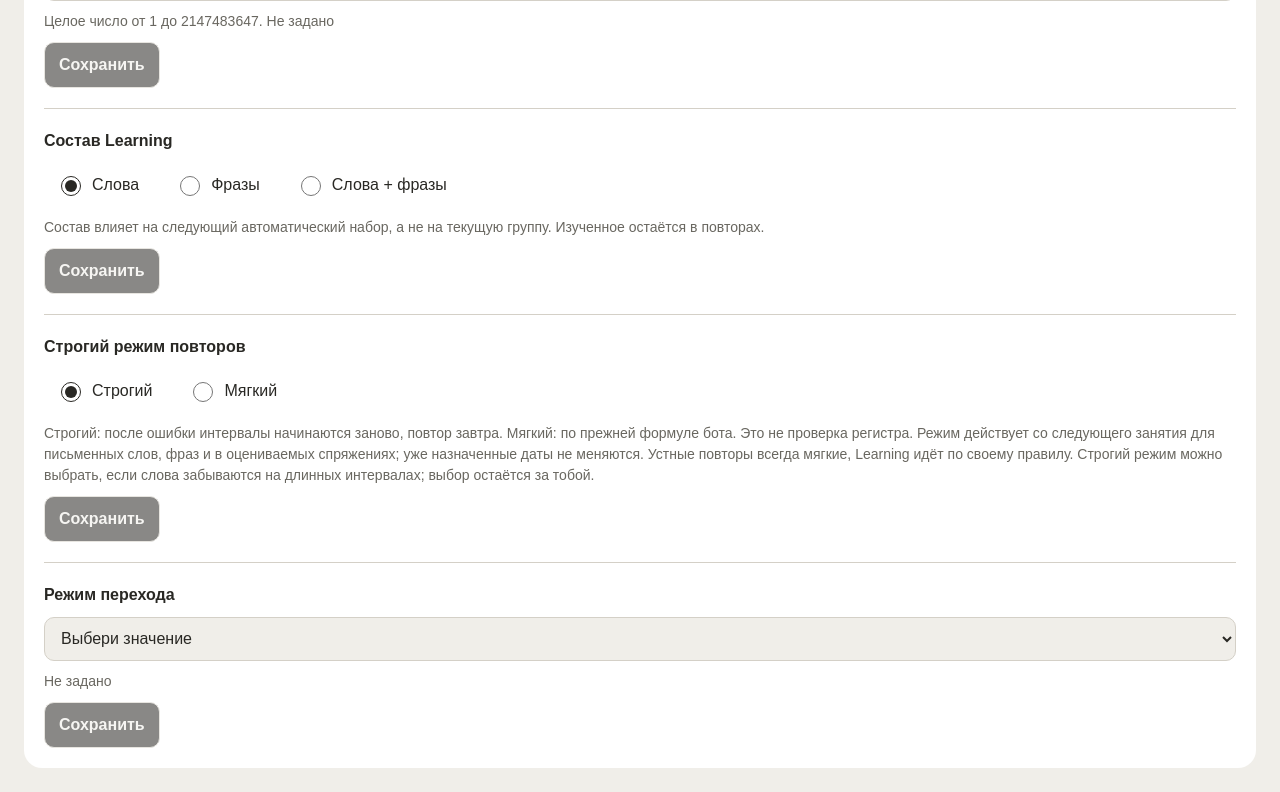
Test: Settings host saves review mode and learning content (M-SET) › Строгий режим повторов: Мягкий goes through setting.save and shows success only after the committed reply
(page scrolled)
Click the radio button labelled "Мягкий": (203, 392) x1=193 y1=382 x2=213 y2=402
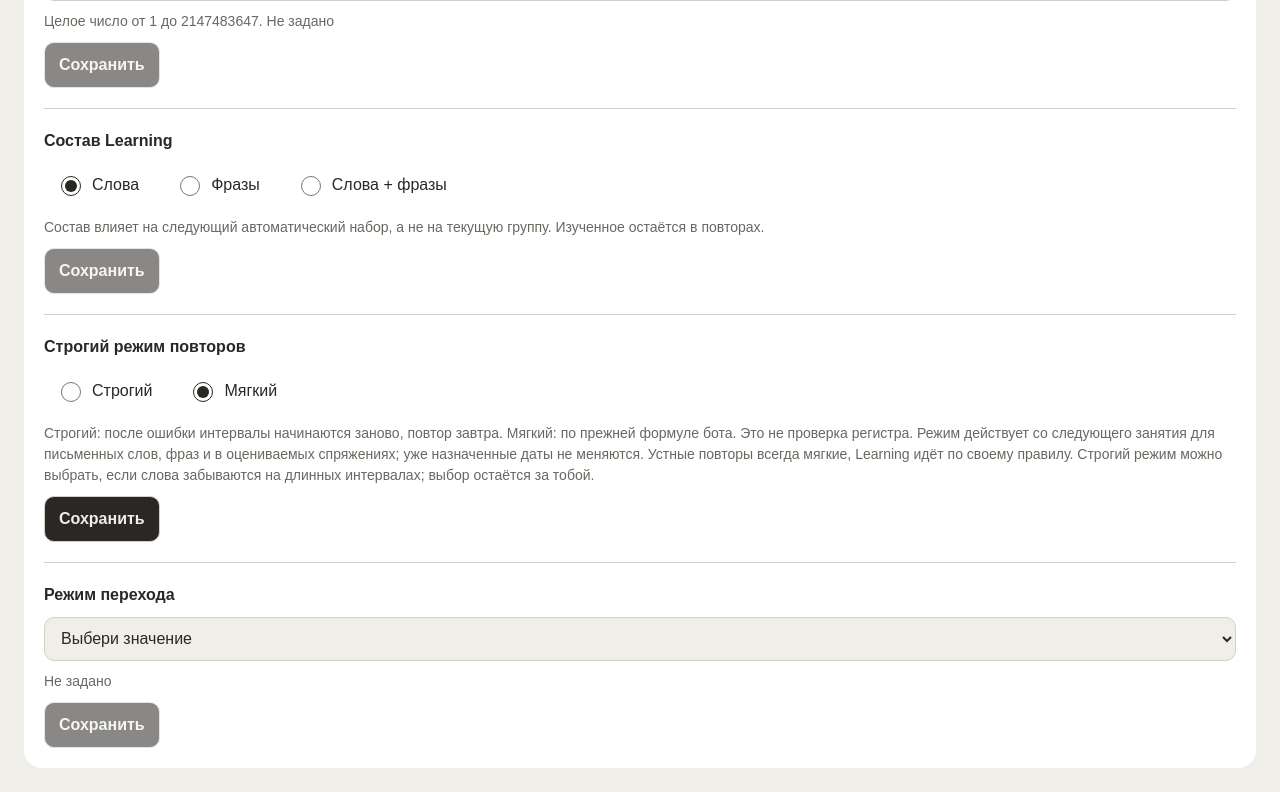
Click the button "Сохранить" below "Строгий режим повторов": (102, 519) x1=44 y1=496 x2=160 y2=542
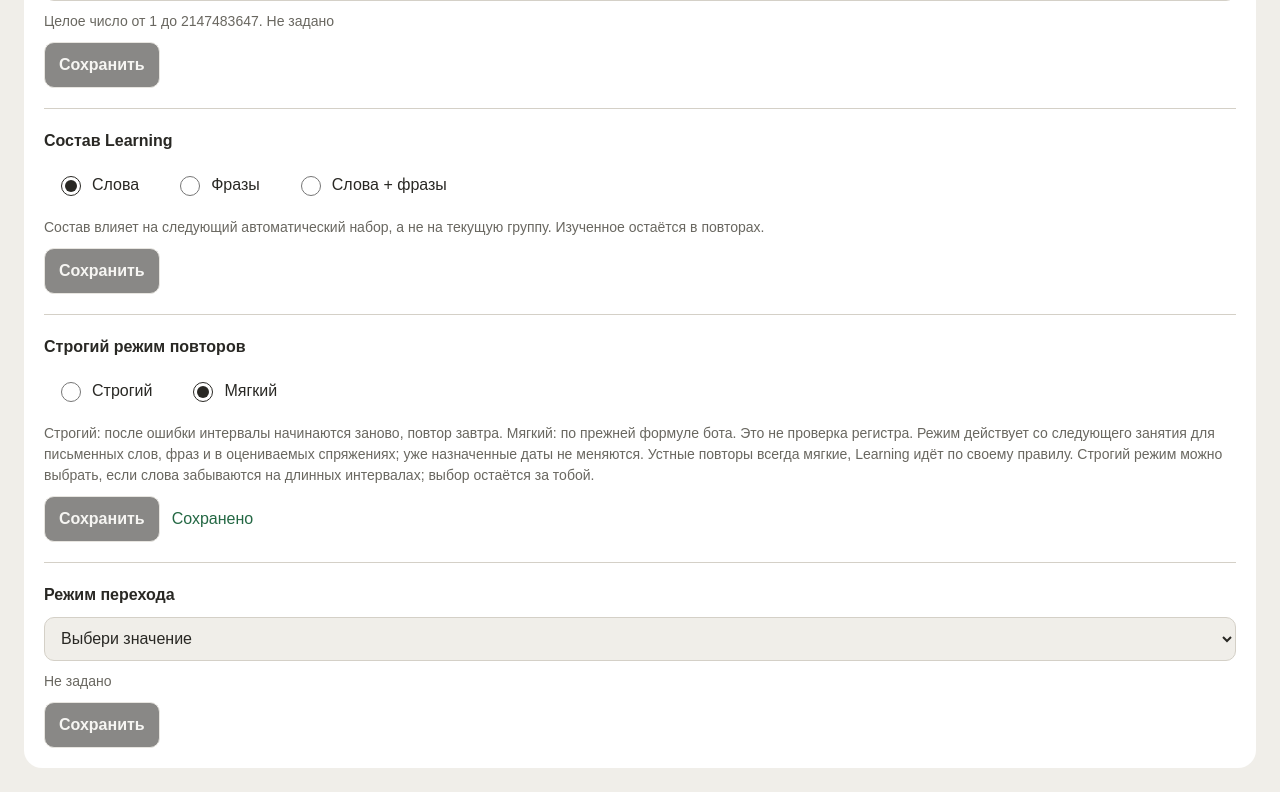
Check: the radio button labelled "Мягкий" is checked, box x1=193 y1=382 x2=213 y2=402
Check: the text "Сохранено" is shown, box x1=172 y1=507 x2=253 y2=531
